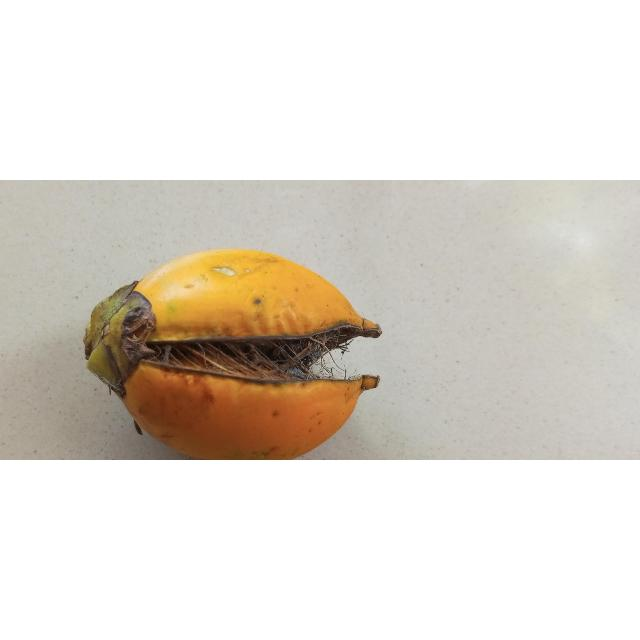damaged: (84, 249, 383, 461)
